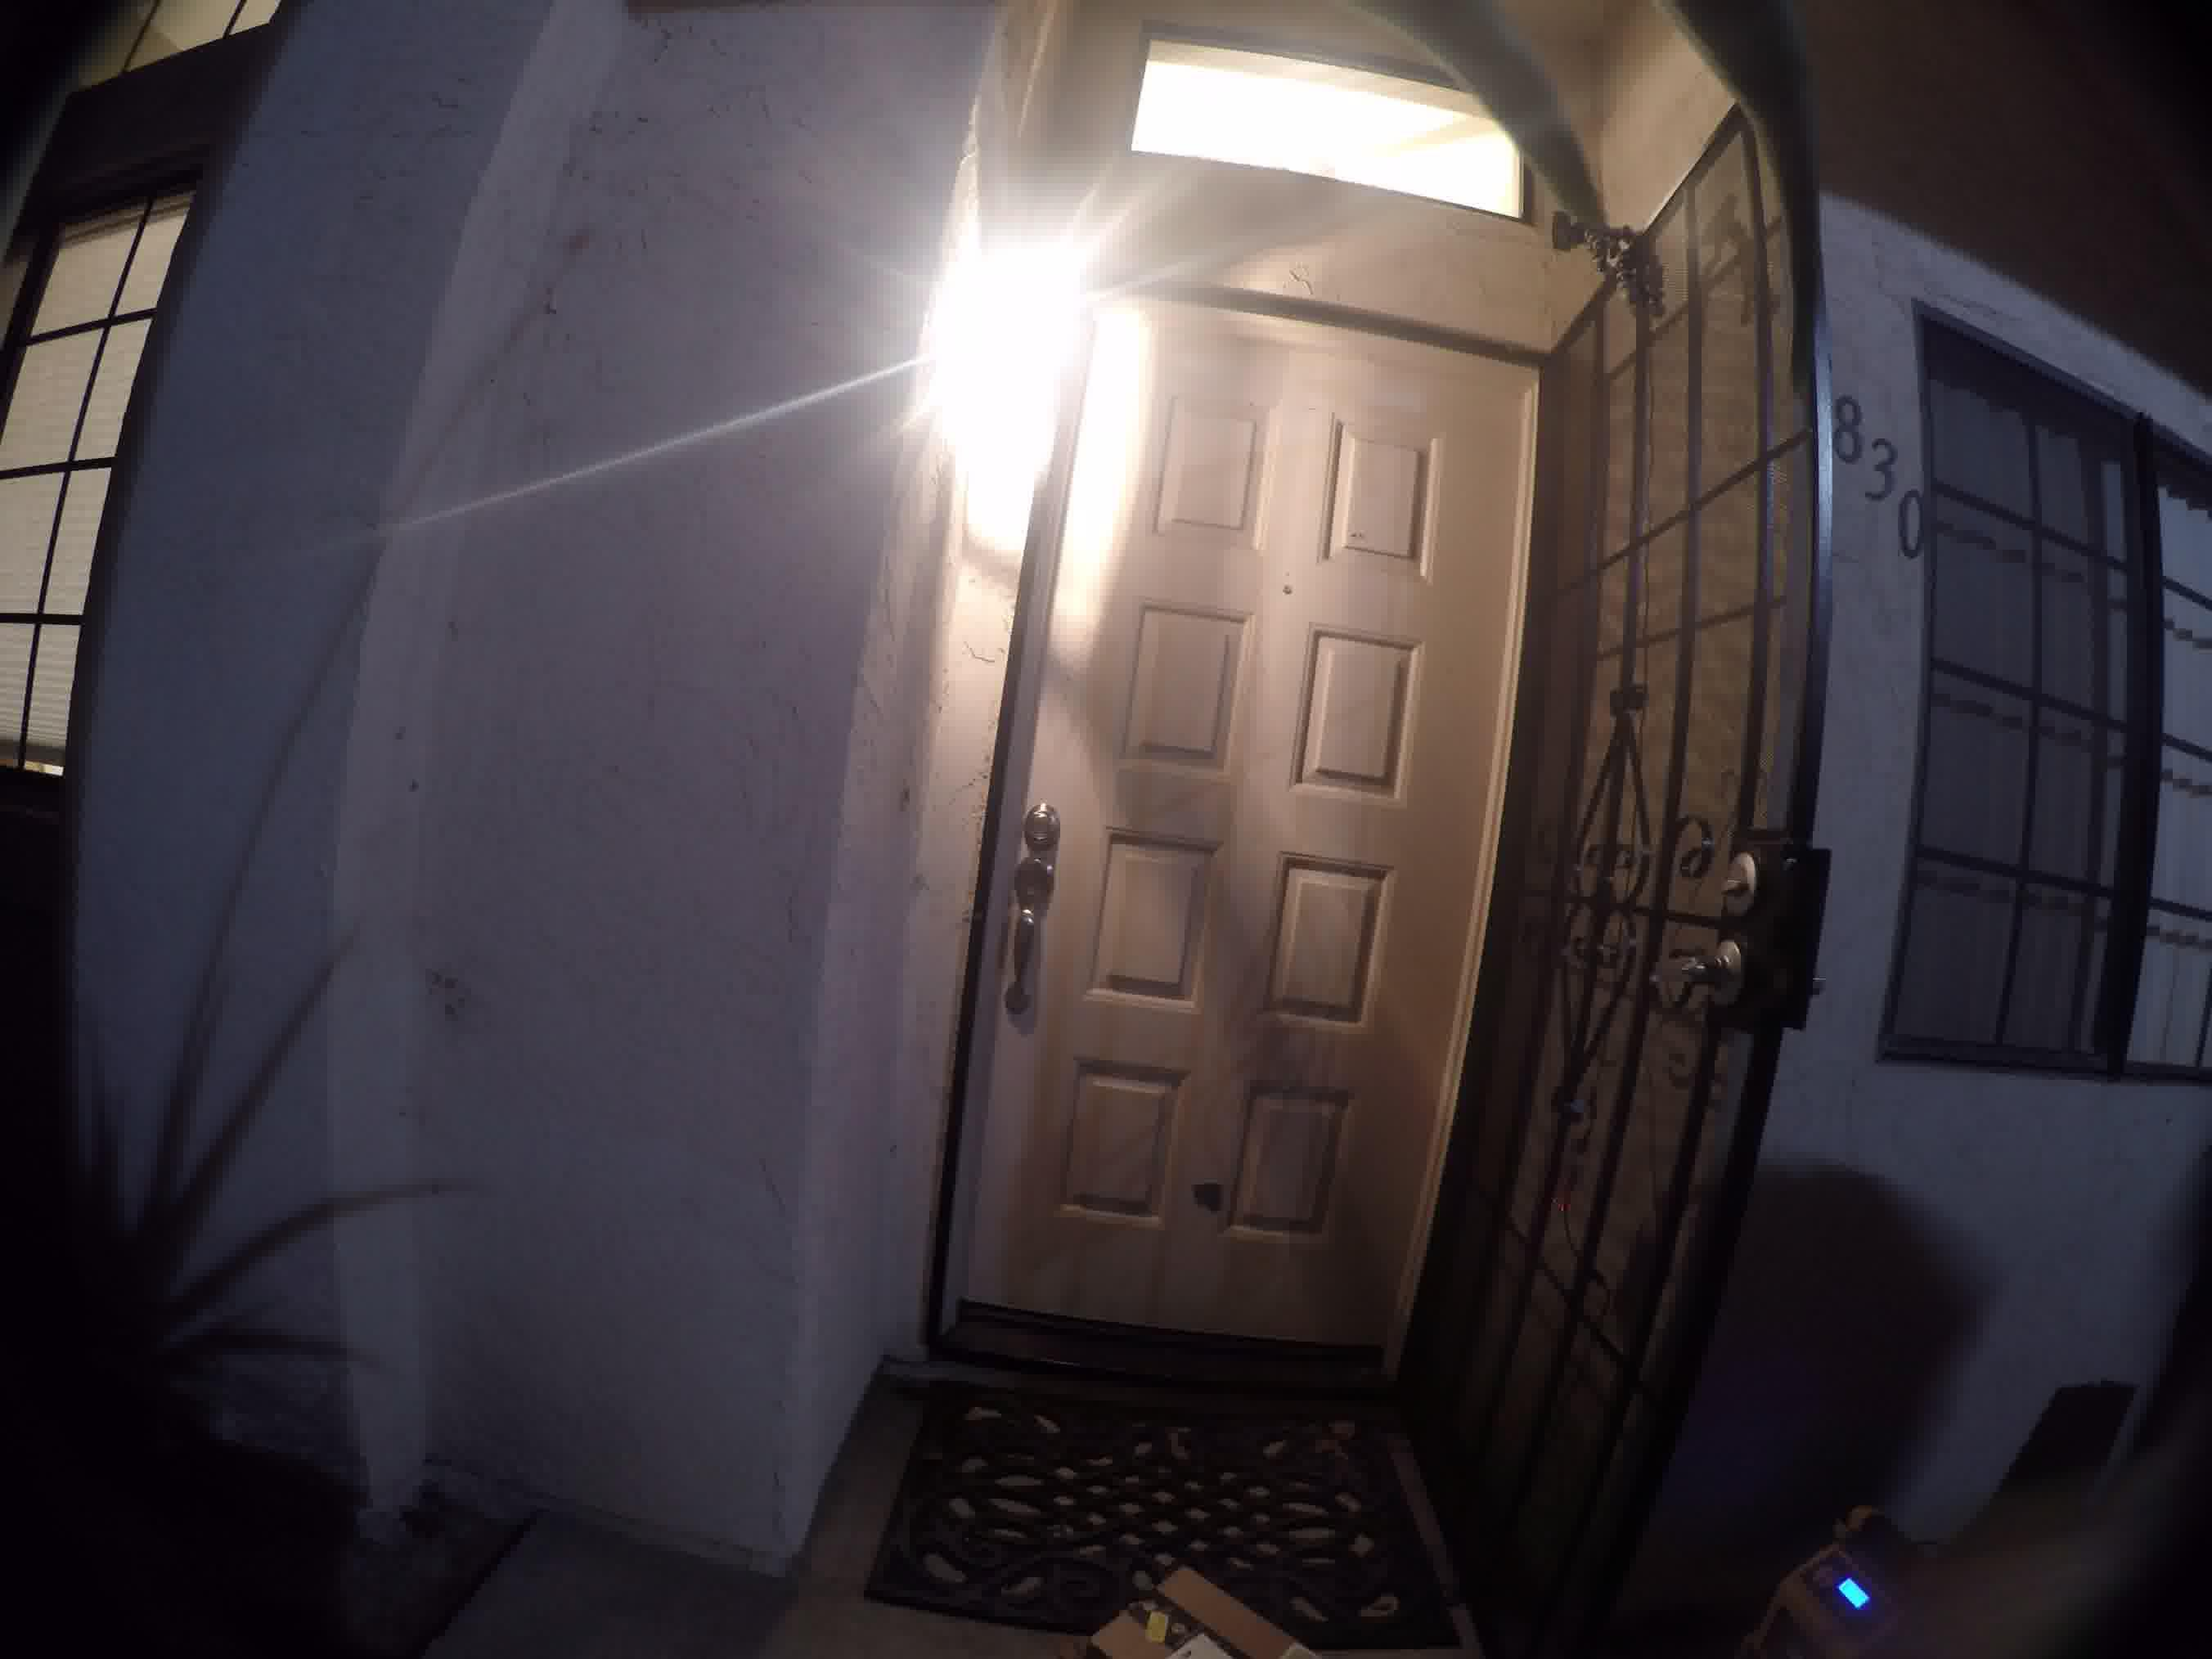box: (1069, 1553, 1327, 1636)
